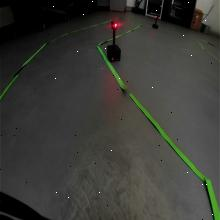red: (111, 20, 119, 30)
